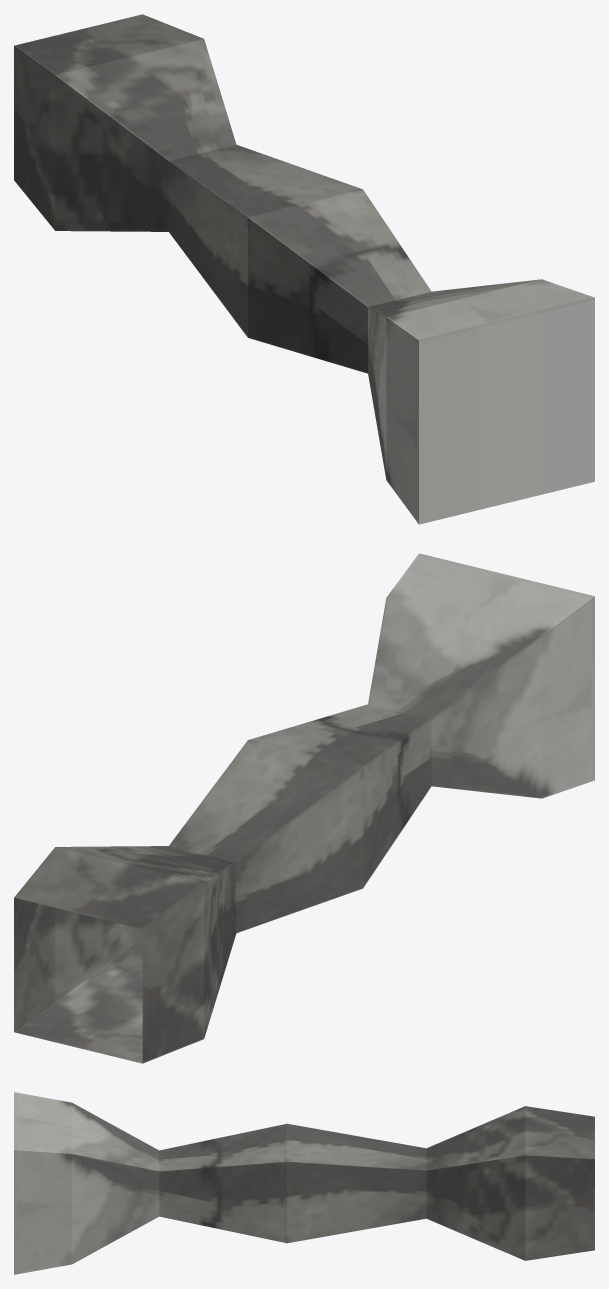
The model's file is pz_g018_fencing_01_107.obj.
3 renders of one model, top to bottom at view 1: azimuth 30°, elevation 25°; view 2: azimuth 150°, elevation 25°; view 3: azimuth 270°, elevation 25°, orthographic. The views are drawn at different scales.
Parts seen in each view (by area): view 1: pz_g018_fencing_01_107; view 2: pz_g018_fencing_01_107; view 3: pz_g018_fencing_01_107.
Boxes of the visible parts, x1=… form: pz_g018_fencing_01_107: x1=14, y1=14, x2=594, y2=524; pz_g018_fencing_01_107: x1=14, y1=553, x2=594, y2=1063; pz_g018_fencing_01_107: x1=14, y1=1092, x2=594, y2=1274.
Bounding box in the file's own units: 0.26 × 0.26 × 1.1.
Materials: 1 (1 with a texture image).
